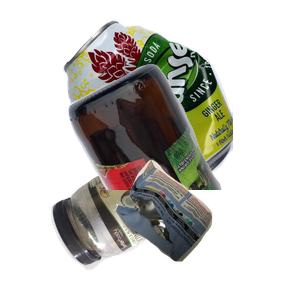glass: (66, 61, 300, 241)
metal: (60, 18, 300, 198)
plastic: (48, 152, 228, 300)
trash: (113, 157, 300, 300)
